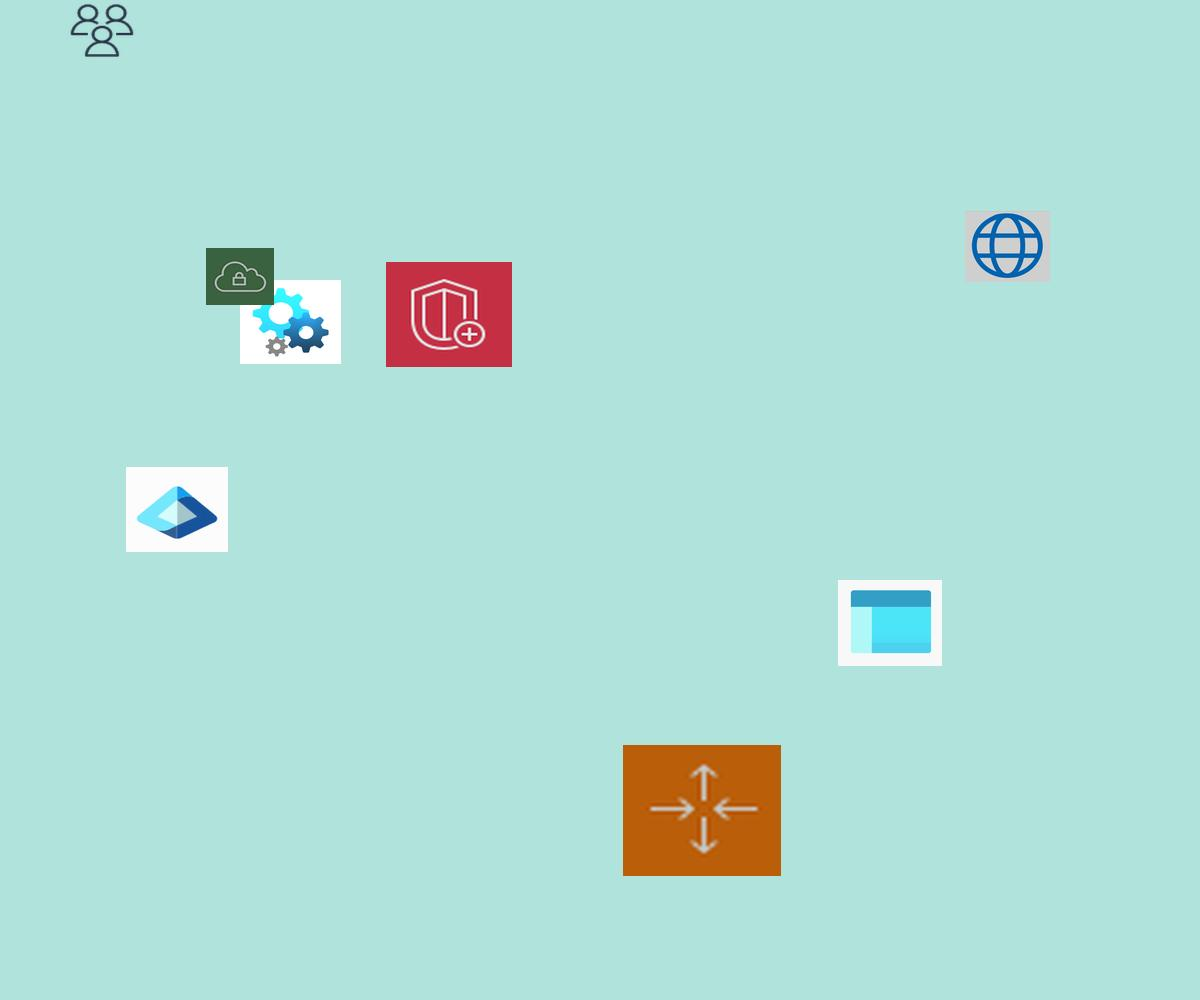AWS-Private_vpc: (206, 248, 274, 305)
AWS-Res_Users: (68, 2, 136, 59)
AWS-Scaling-group: (623, 745, 781, 876)
AWS-Shield: (386, 262, 512, 367)
Azure_api: (240, 280, 341, 364)
Azure_http: (965, 211, 1050, 282)
Azure_management-portal: (838, 580, 942, 666)
Azure_microsoft_entra: (126, 467, 228, 552)
